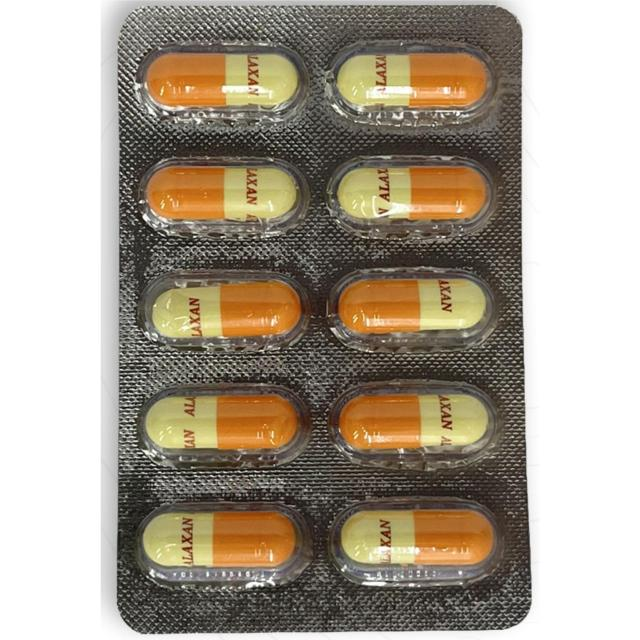blister: (119, 1, 536, 634)
